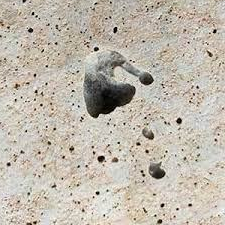Spalling: (1, 1, 225, 225), (82, 49, 155, 119)
